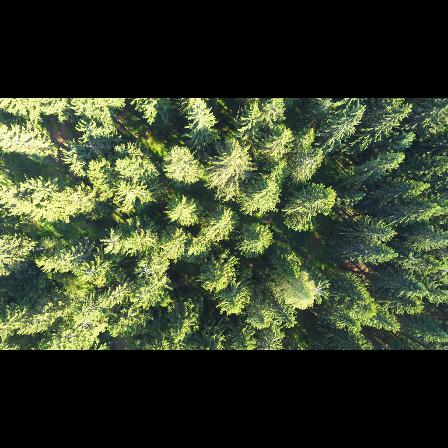Sick: (309, 278, 332, 305)
